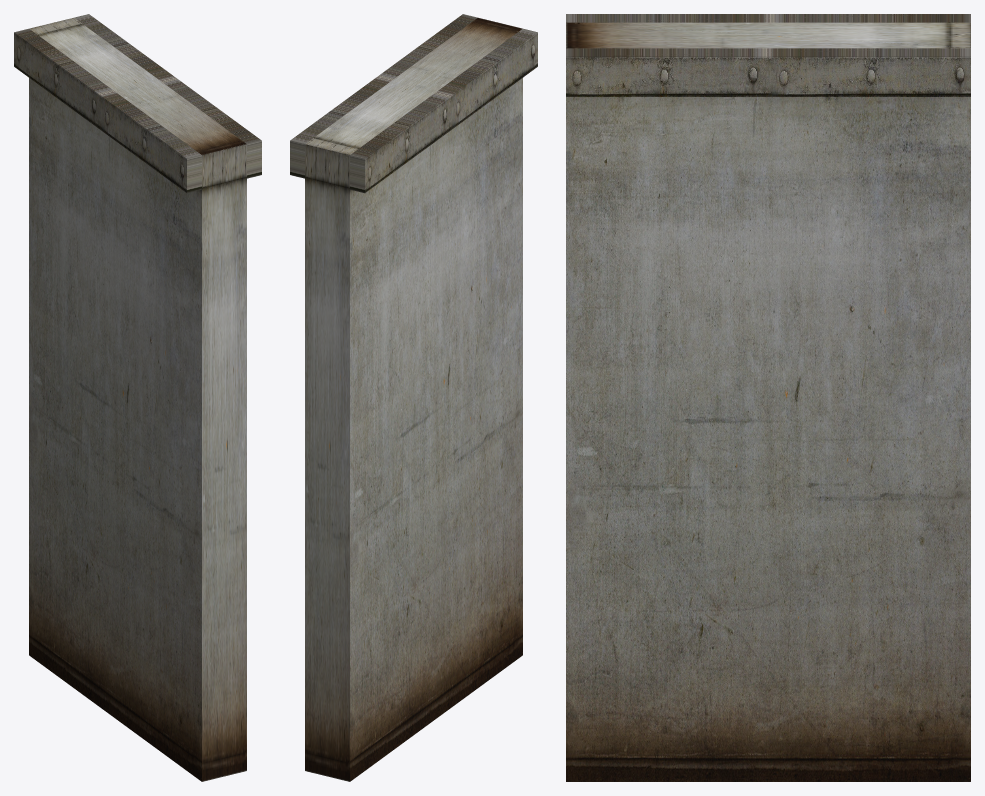
The model's file is modular half wall concrete.FBX.
3 views of the same model, side by side, from view 1: azimuth 30°, elevation 25°; view 2: azimuth 150°, elevation 25°; view 3: azimuth 270°, elevation 25° (orthographic). The views are drawn at different scales.
Visible parts, largest first — view 1: Box001; view 2: Box001; view 3: Box001.
Part boxes in pixels (left/top/right/bottom): Box001: left=14, top=14, right=261, bottom=781; Box001: left=290, top=14, right=537, bottom=781; Box001: left=566, top=14, right=970, bottom=781.
Size of the model in its own units: 50 by 200 by 400.
1 material, 1 textured.
